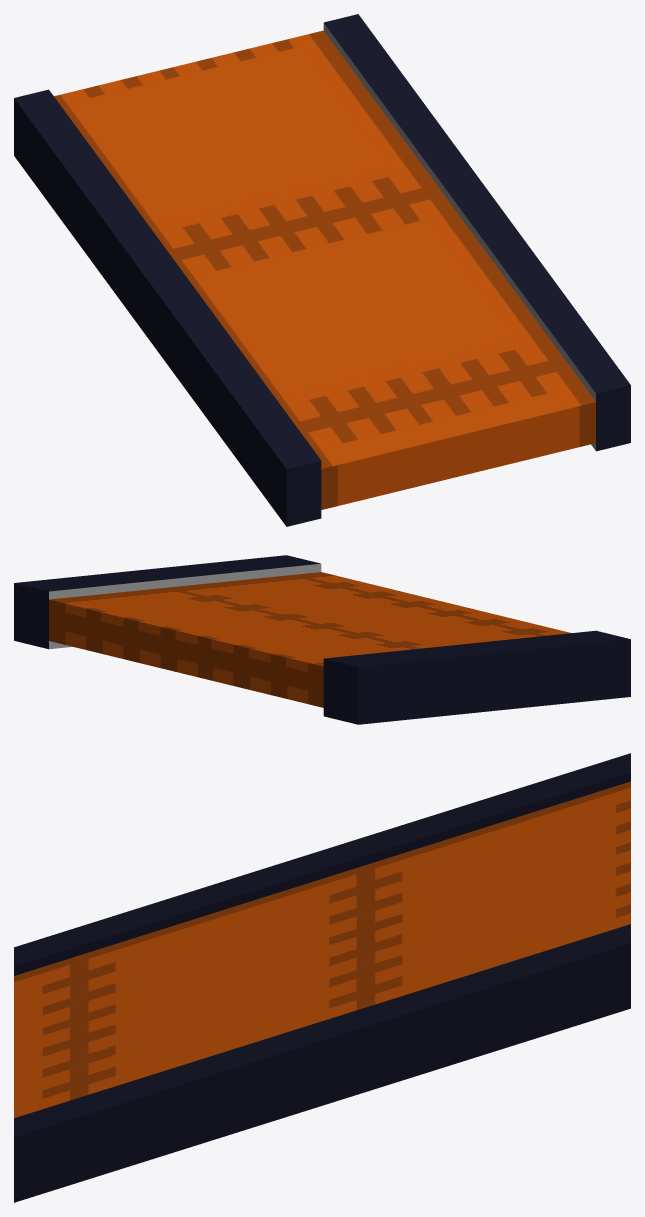
Rendered from conveyorSlope.fbx.
3 renders of one model, top to bottom at view 1: azimuth 30°, elevation 25°; view 2: azimuth 150°, elevation 25°; view 3: azimuth 270°, elevation 25°, orthographic. The views are drawn at different scales.
Visible parts, largest first — view 1: conveyorRamp; view 2: conveyorRamp; view 3: conveyorRamp.
Part boxes in pixels (left/top/right/bottom): conveyorRamp: left=14, top=14, right=630, bottom=526; conveyorRamp: left=14, top=555, right=630, bottom=724; conveyorRamp: left=14, top=753, right=630, bottom=1202.
Bounding box in the file's own units: 5.39 × 3.43 × 7.39.
